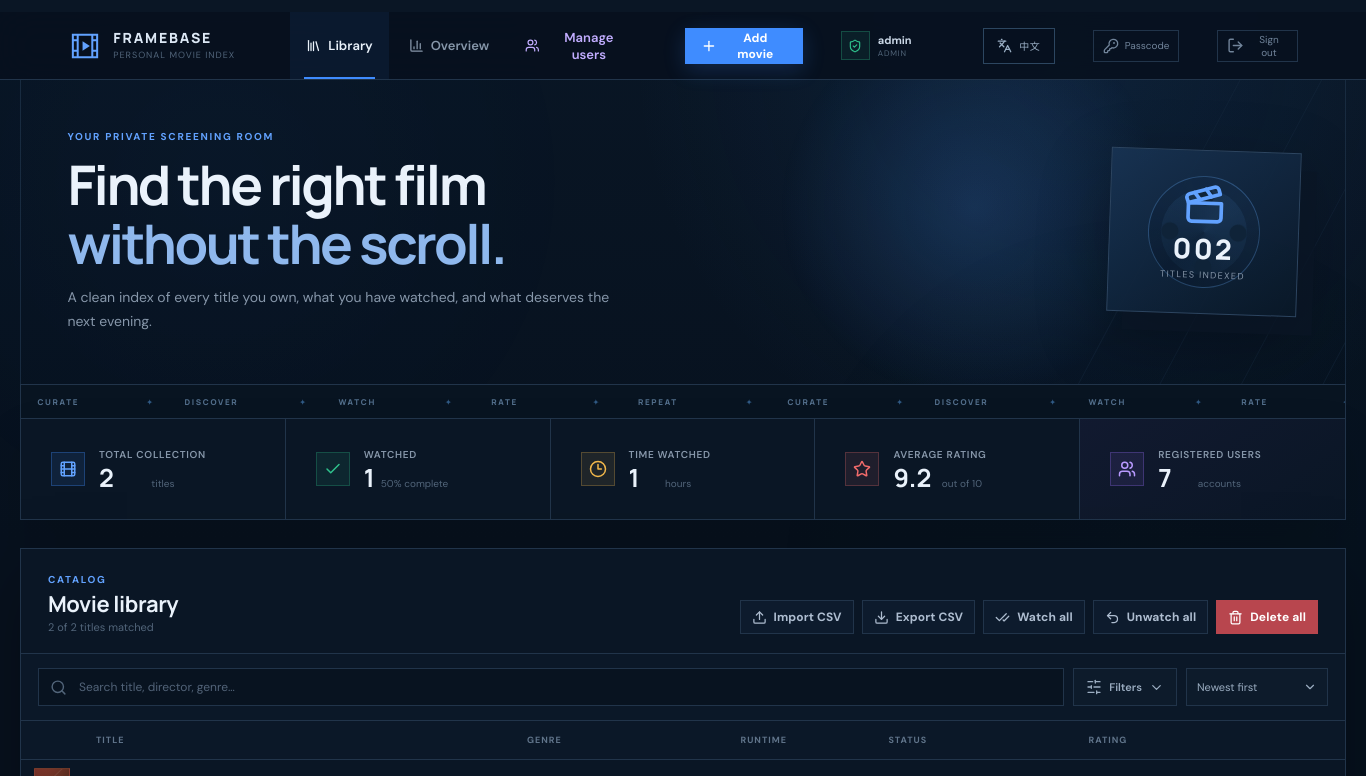
Scenario: App › moves every watched movie in the current library back to the watchlist with one batch request
Click the button "Unwatch all".
click(1150, 617)  # box [1093,600,1208,634]
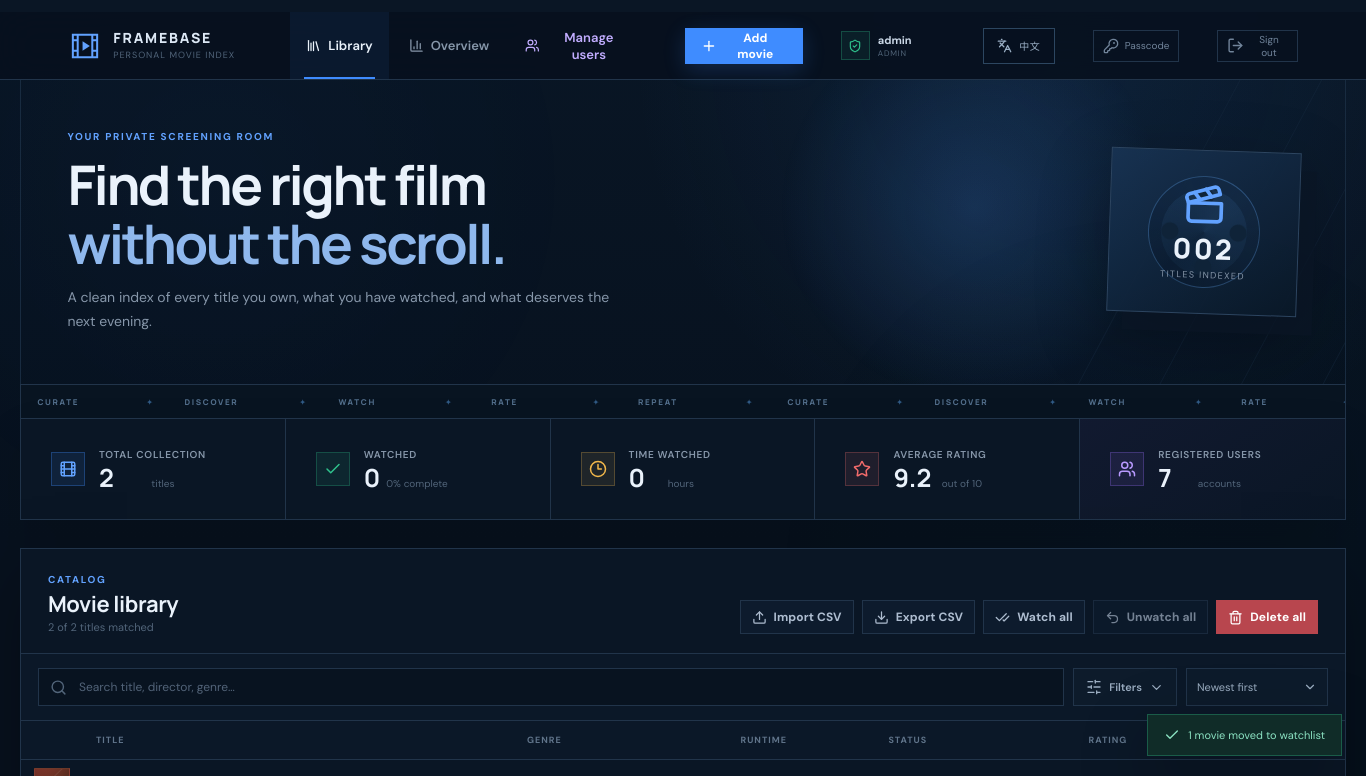
Check: the text "0% complete" is shown, box [386,477,448,490]
Check: the text "1 movie moved to watchlist" is shown, box [1147,714,1342,756]
